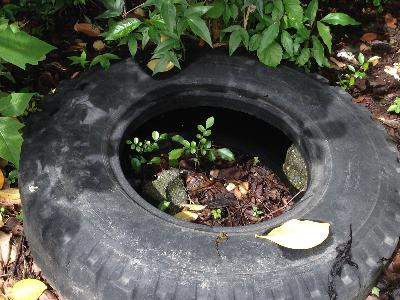tire: (19, 45, 400, 300)
